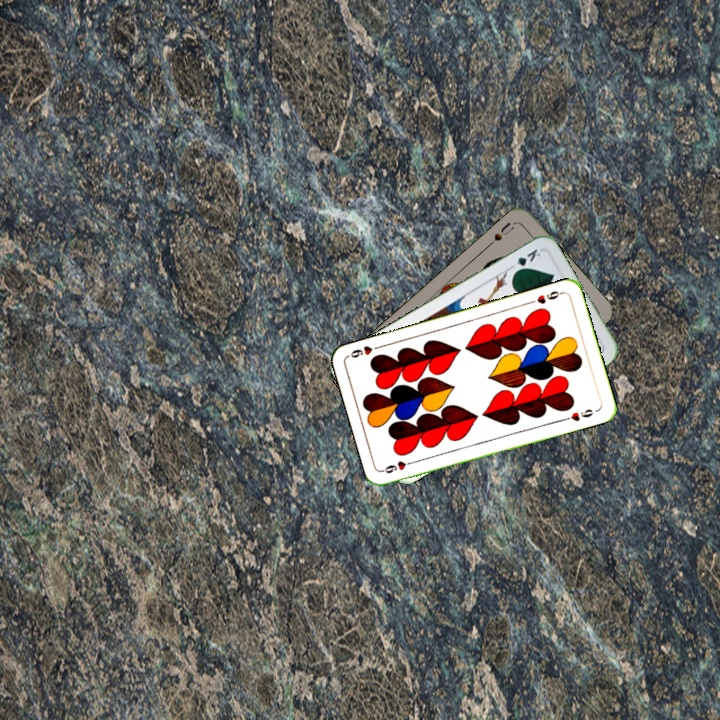GK: (509, 245, 543, 276)
H9: (526, 287, 566, 307), (379, 456, 419, 476)
SU: (484, 218, 518, 249)
